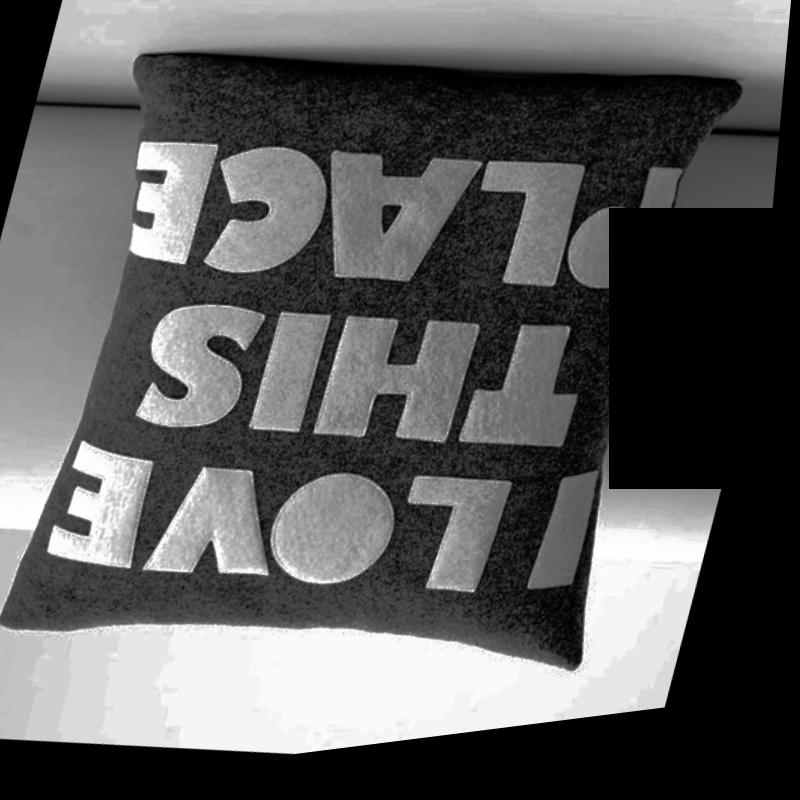pillow: (0, 5, 751, 742)
